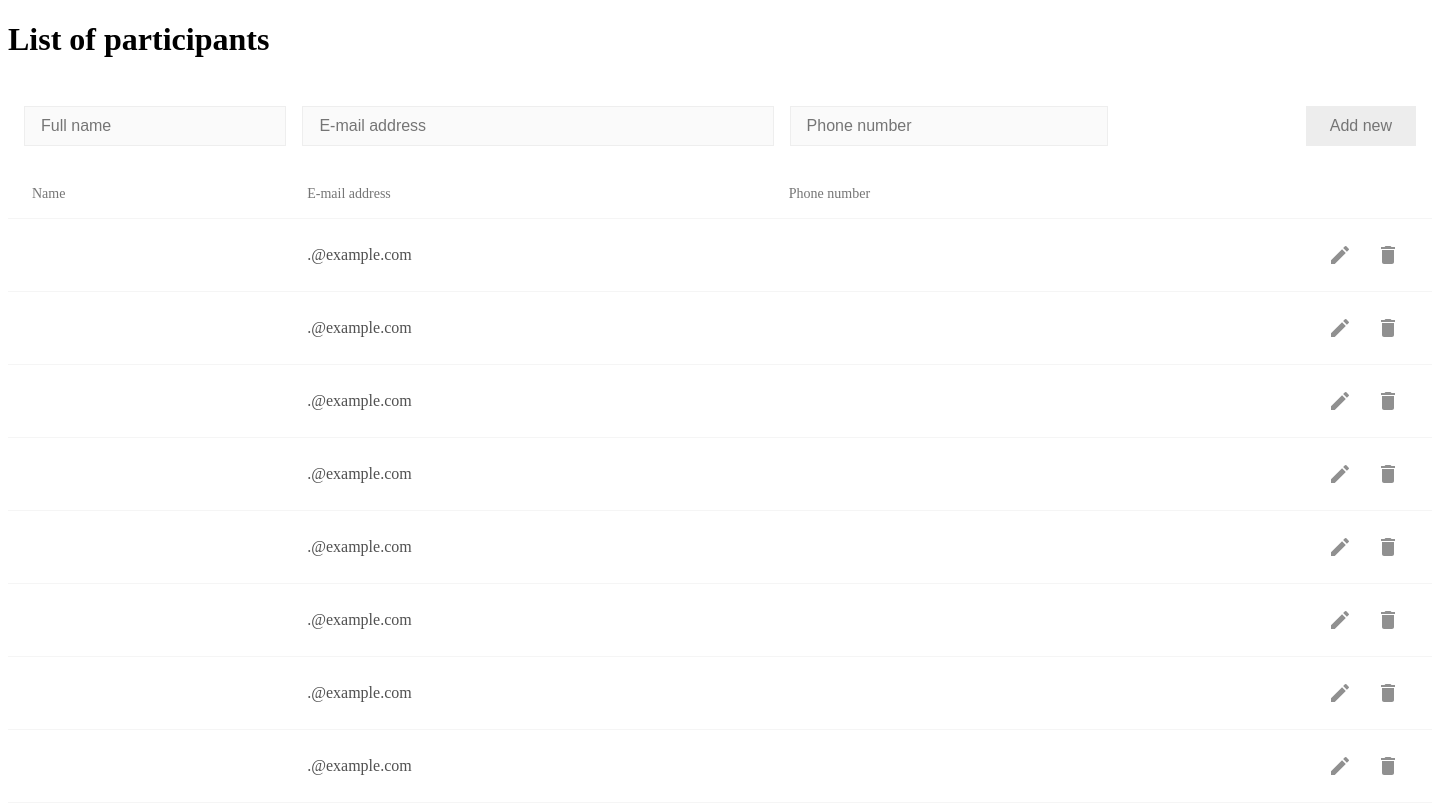
Test: Add new row
Type "new name" into the field with placeholder "Full name" at (155, 126), box [24, 106, 286, 146]
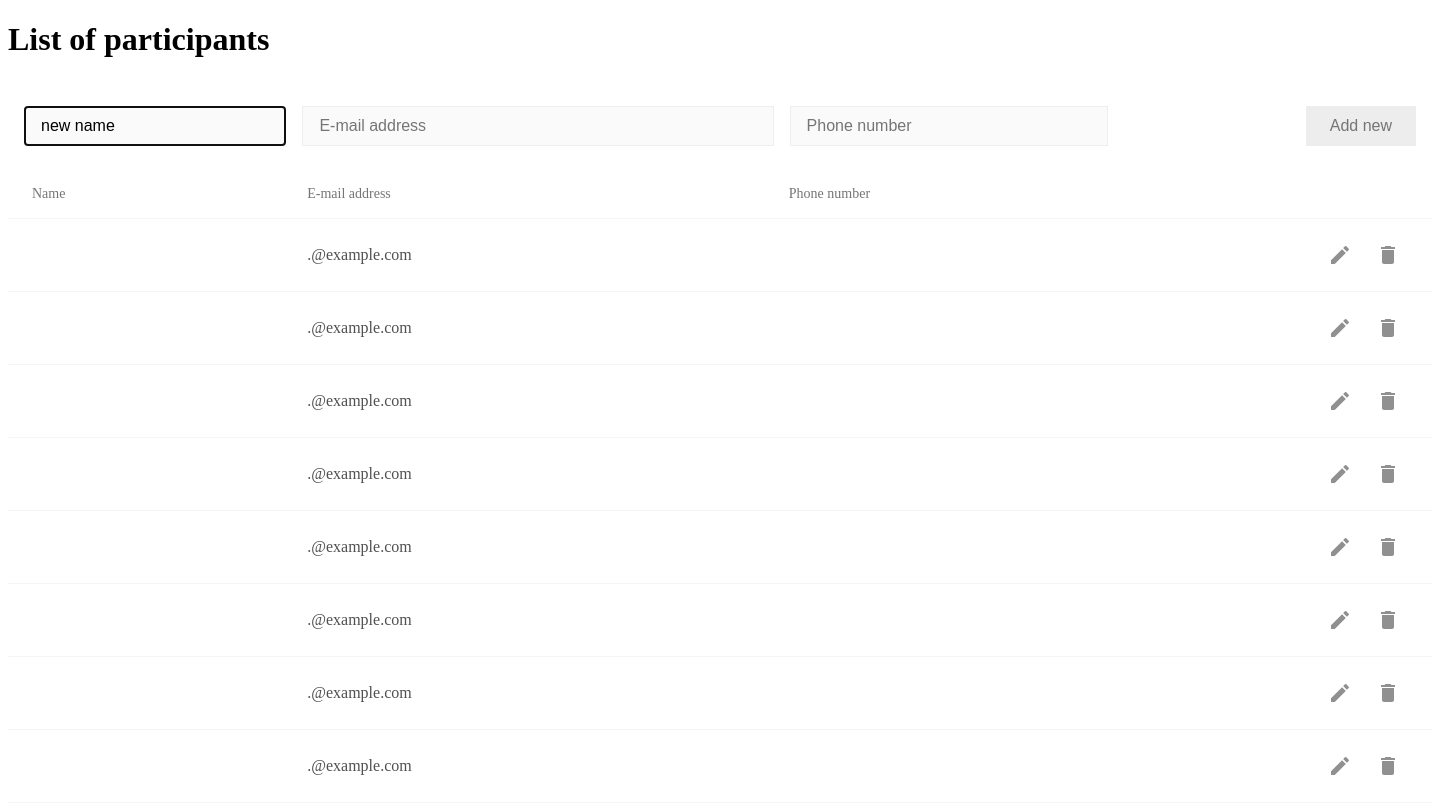
Type "nemail@email.com" into the field with placeholder "E-mail address" at (538, 126), box [302, 106, 774, 146]
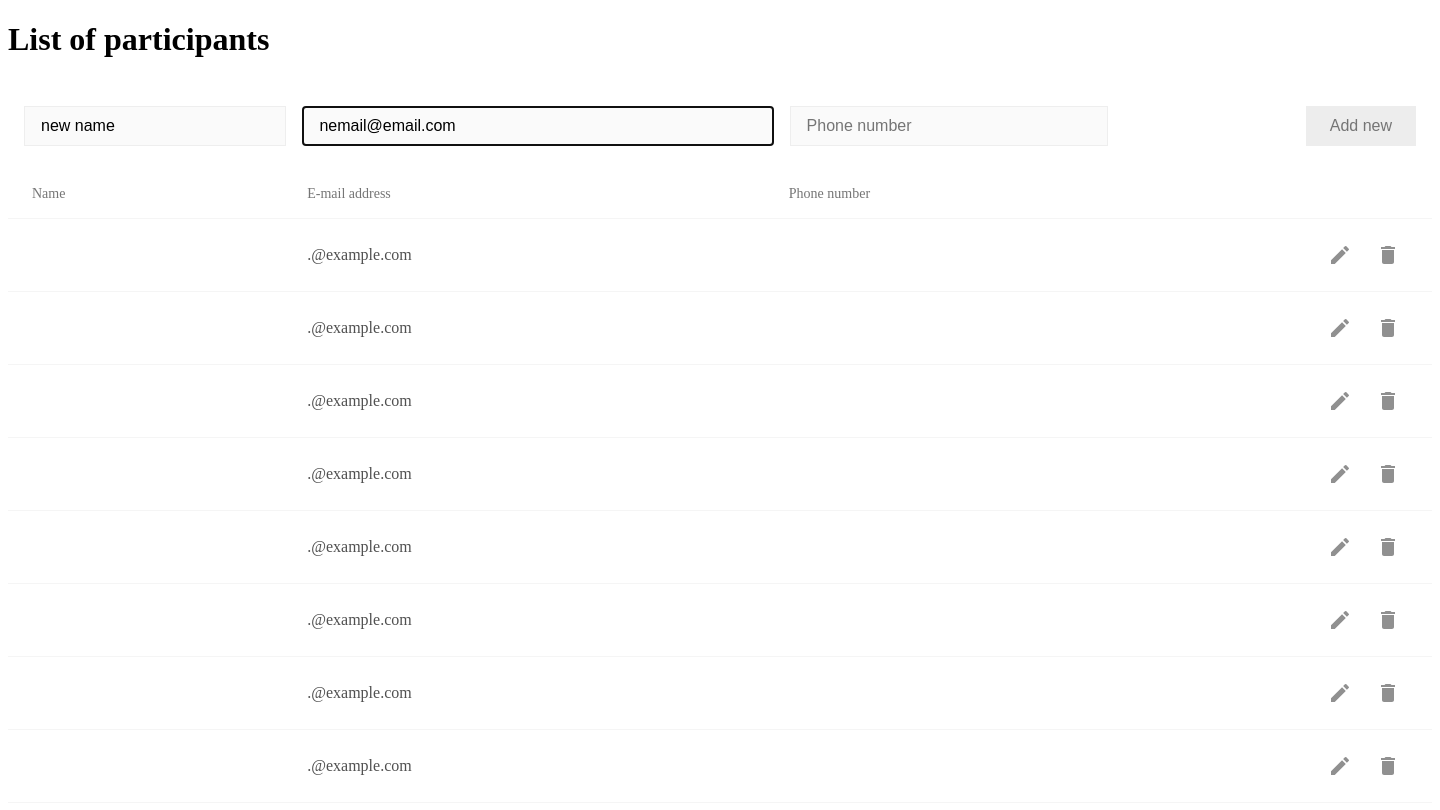
Type "1234567890" into the field with placeholder "Phone number" at (949, 126), box [790, 106, 1108, 146]
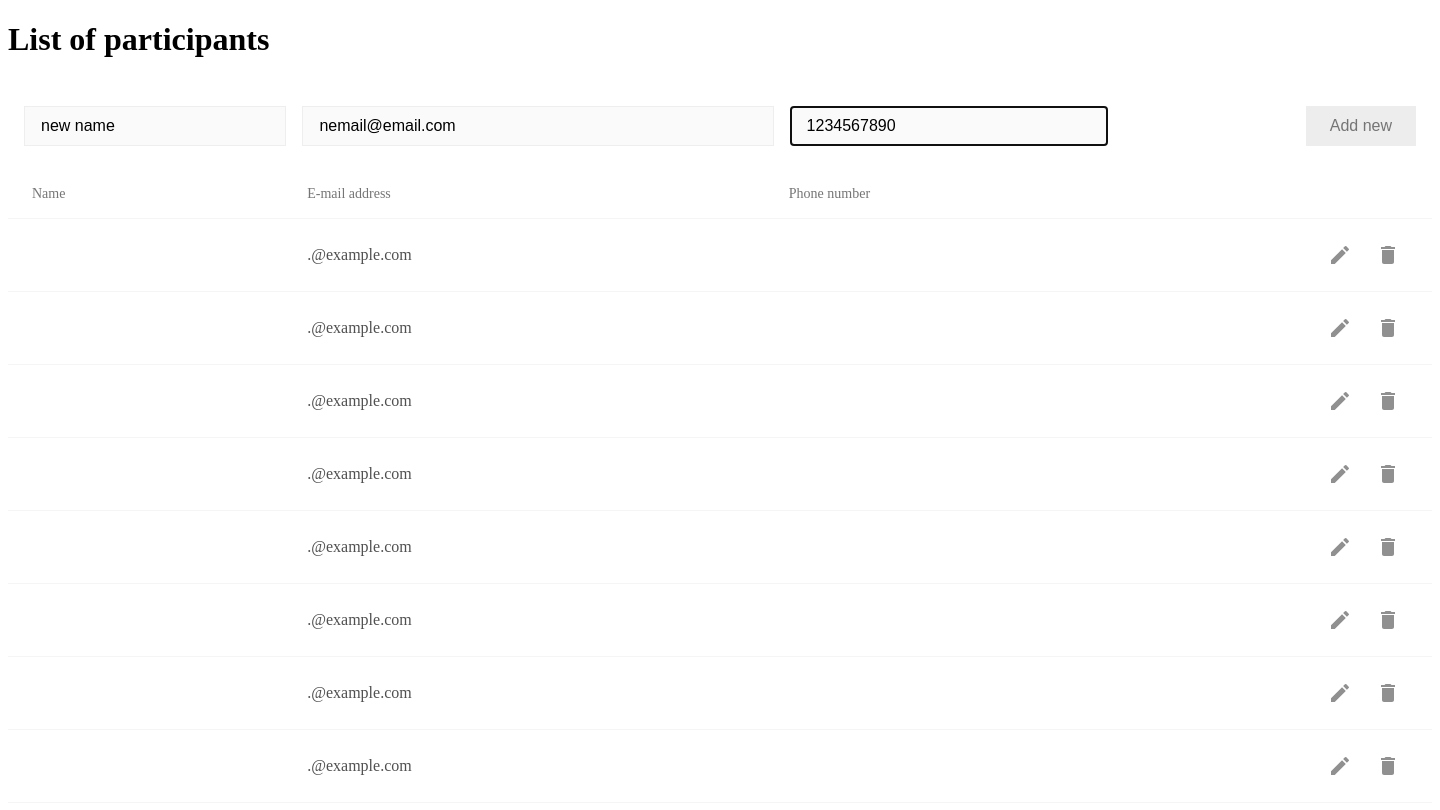
Click the button "Add new" at (1361, 126), box [1306, 106, 1416, 146]
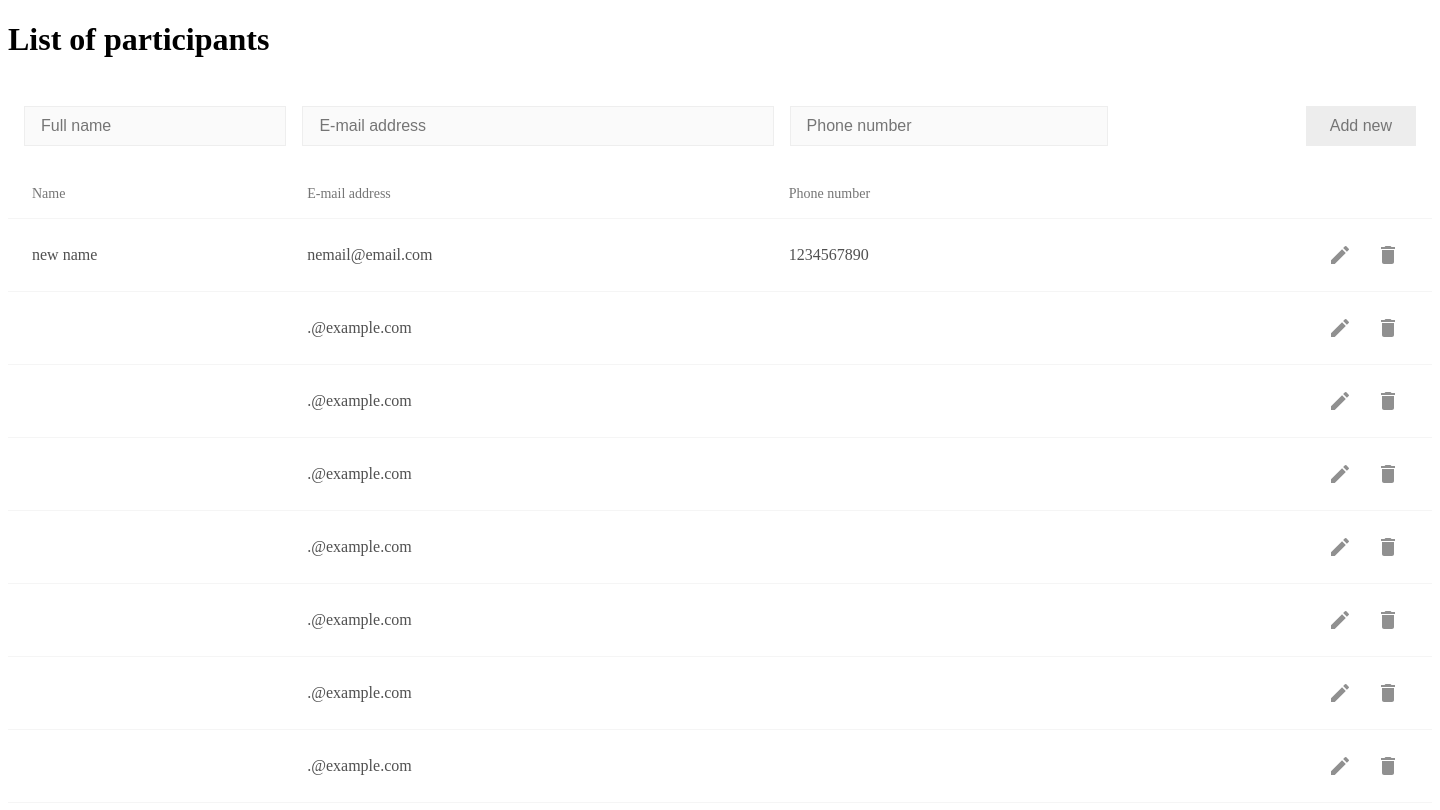
Check: the text "new name" is shown, box [32, 246, 97, 263]
Check: the text "nemail@email.com" is shown, box [307, 246, 433, 263]
Check: the text "1234567890" is shown, box [789, 246, 869, 263]
